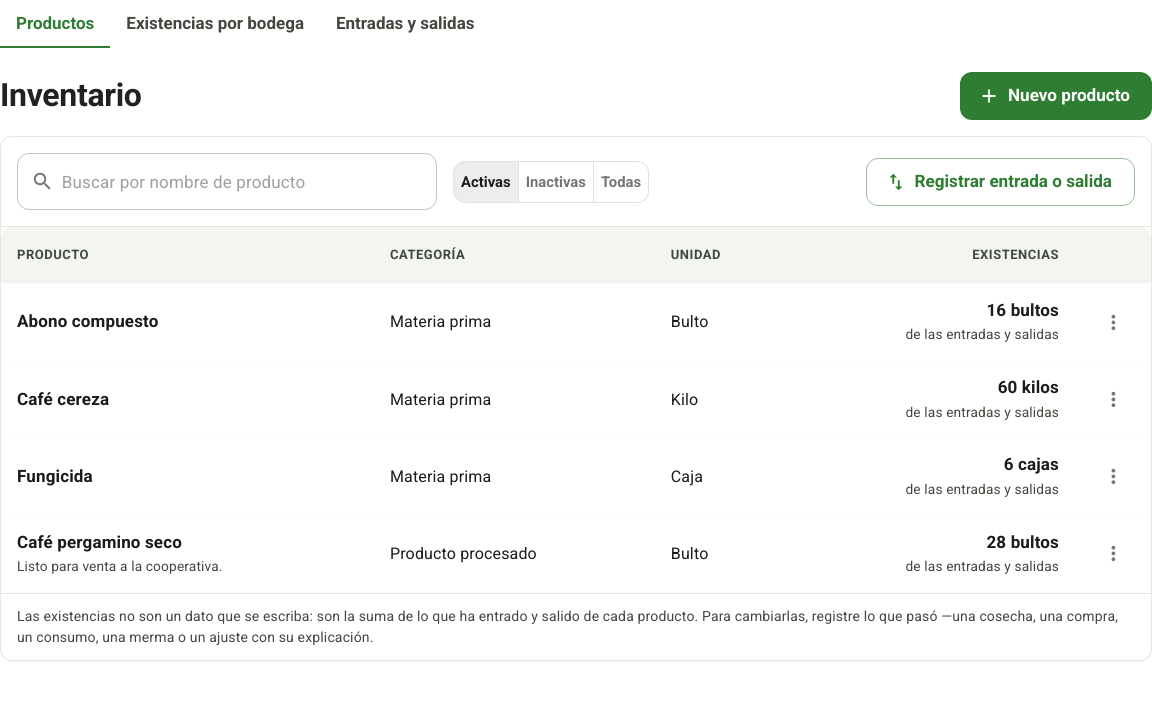
Test: from a product row › opens the movement dialog for that product, and closes it
What coordinates should you click on to do the following:
click the button named "Acciones de Café pergamino seco"
I would click on:
 (1113, 554)
Its box is top-left (1091, 532), bottom-right (1135, 576).
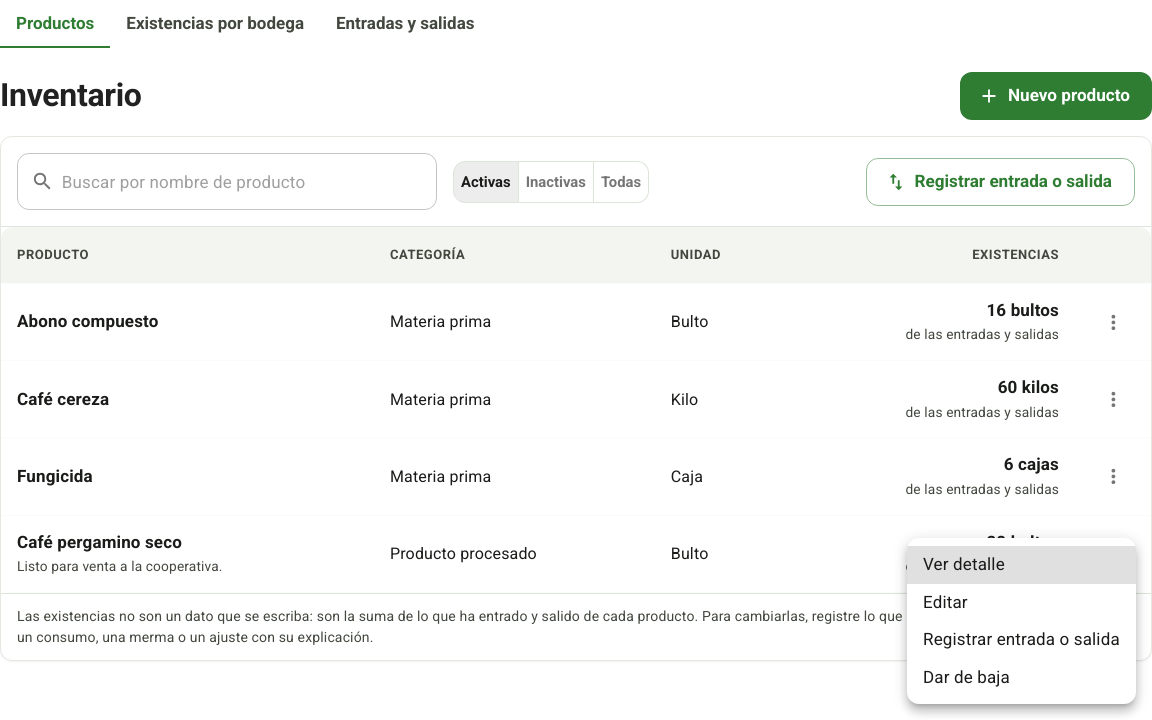
What coordinates should you click on to do the following:
click the menu item "Registrar entrada o salida"
I would click on:
 (1021, 639)
Its box is top-left (923, 629), bottom-right (1120, 649).
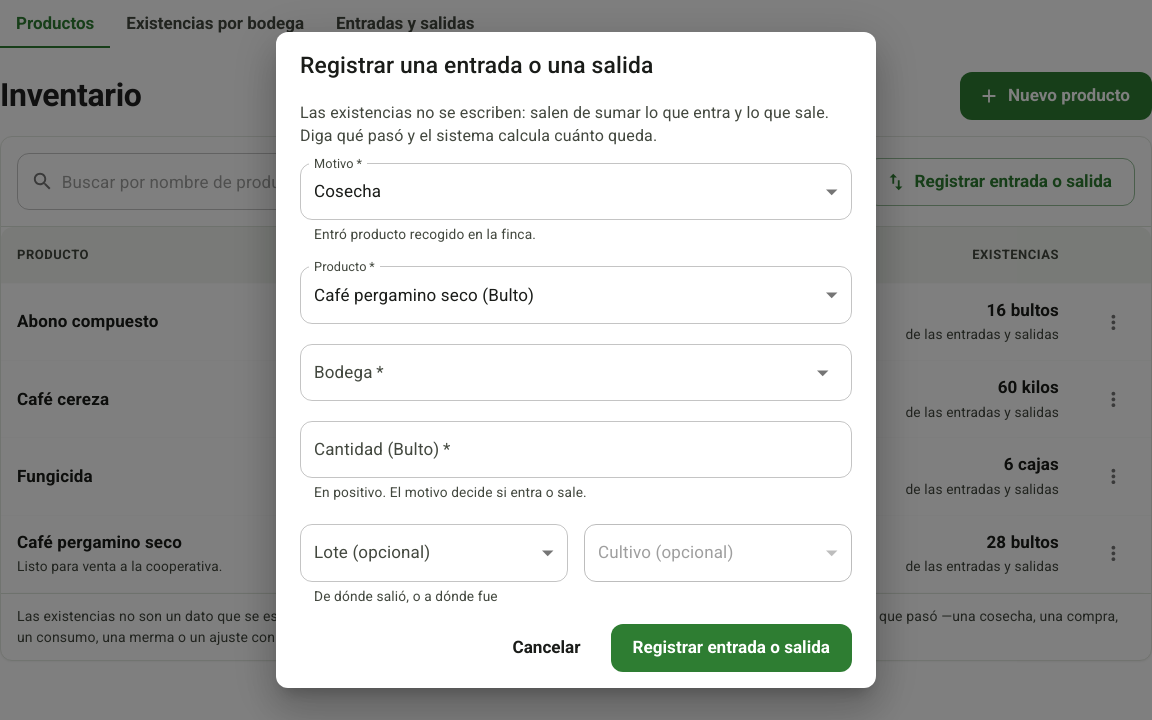
Check: the heading "Registrar una entrada o una salida" is shown, box top-left (300, 52), bottom-right (653, 79)
What coordinates should you click on to do the following:
click the button "Cancelar"
I would click on:
 (547, 648)
Its box is top-left (490, 624), bottom-right (603, 672).
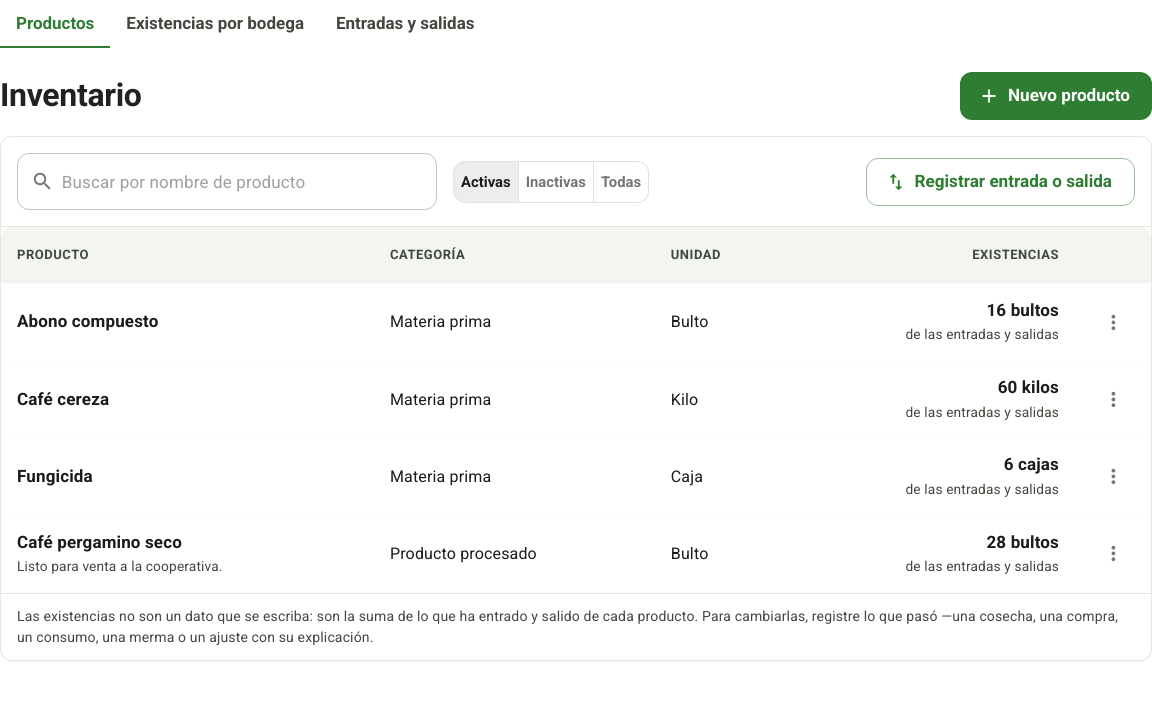
Check: the dialog is gone
